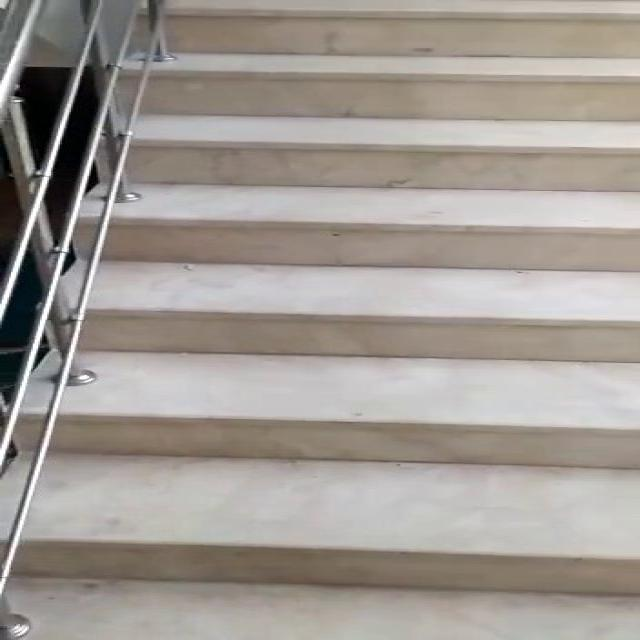stairs: (0, 0, 638, 600)
